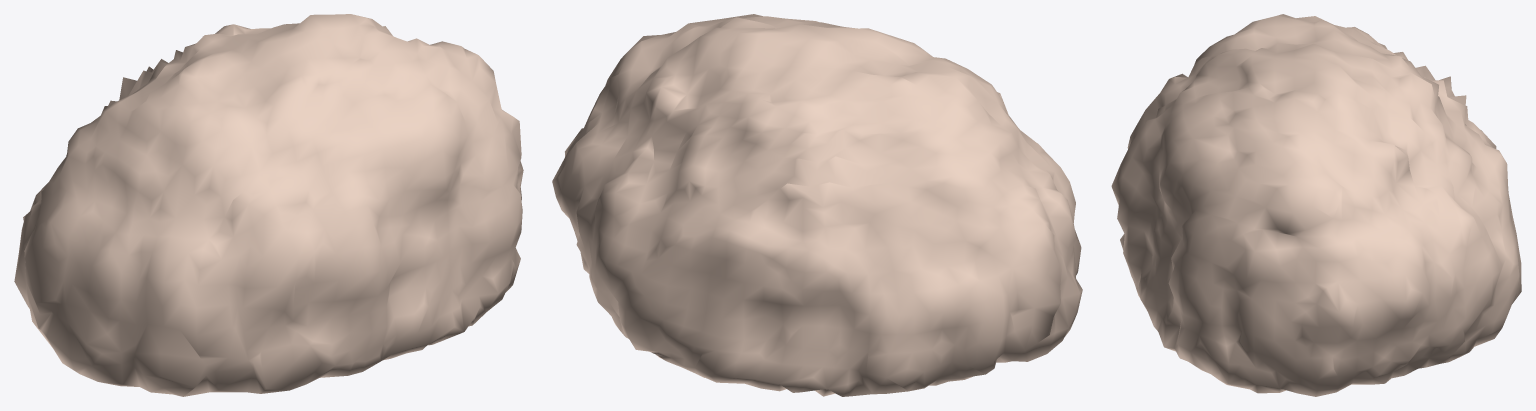
The model's file is SM_Boulder_C.fbx.
3 renders of one model, left to right at view 1: azimuth 30°, elevation 25°; view 2: azimuth 150°, elevation 25°; view 3: azimuth 270°, elevation 25°, orthographic. The views are drawn at different scales.
Parts seen in each view (by area): view 1: SM_Boulder_C; view 2: SM_Boulder_C; view 3: SM_Boulder_C.
Boxes of the visible parts, x1=… form: SM_Boulder_C: x1=14, y1=14, x2=523, y2=396; SM_Boulder_C: x1=552, y1=14, x2=1082, y2=396; SM_Boulder_C: x1=1111, y1=14, x2=1521, y2=396.
Bounding box in the file's own units: 1295 × 690 × 1001.
